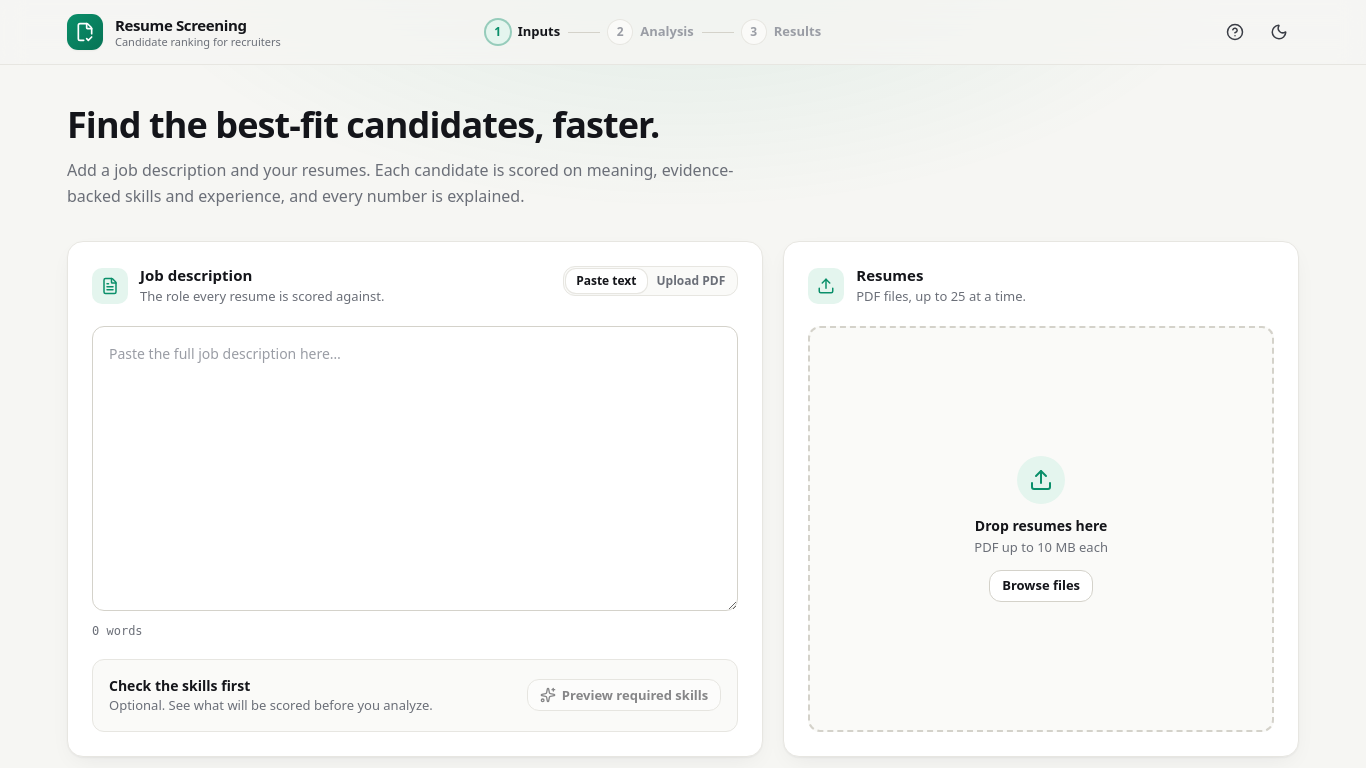
Test case: App › toggles the theme and opens the scoring help
The width and height of the screenshot is (1366, 768).
Click the button named "Switch to dark theme" at (1279, 32), box x1=1259 y1=12 x2=1299 y2=52
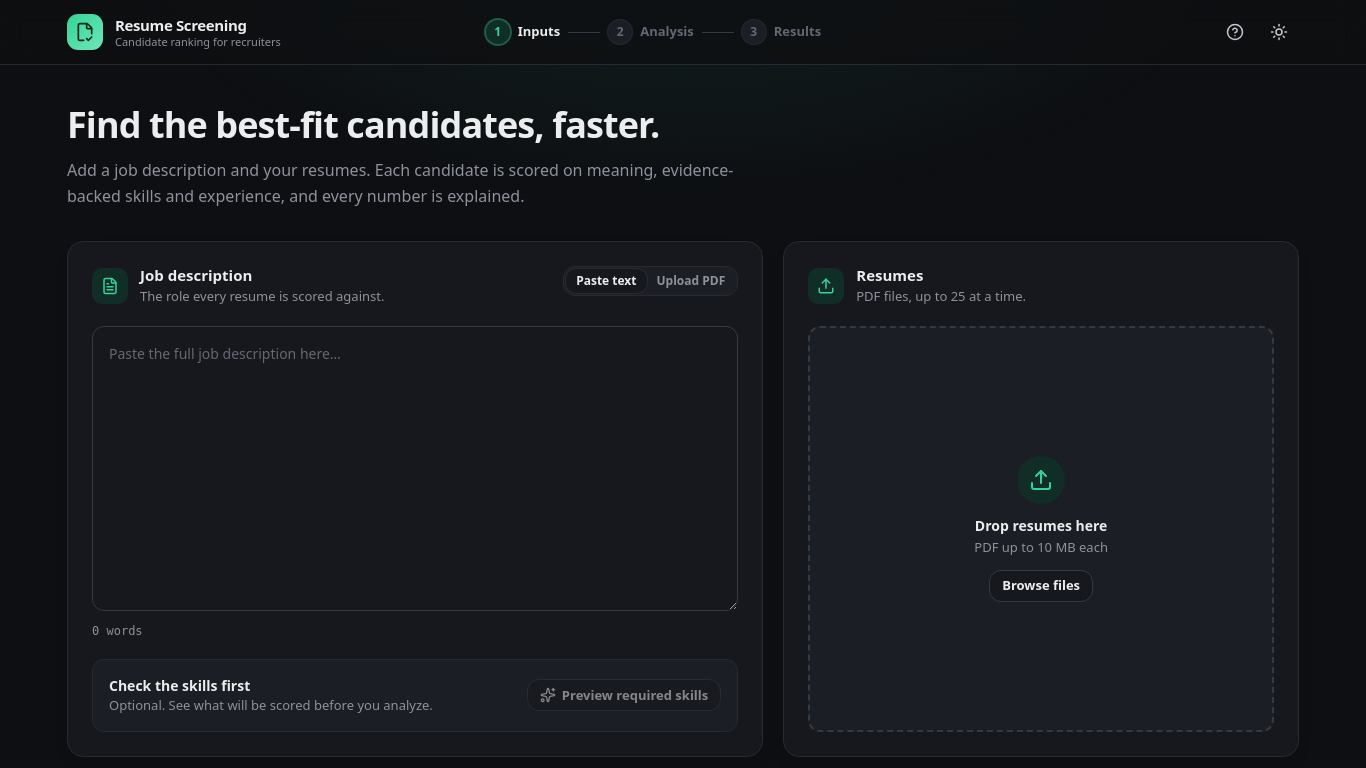
Click the button named "Switch to light theme" at (1279, 32), box x1=1259 y1=12 x2=1299 y2=52
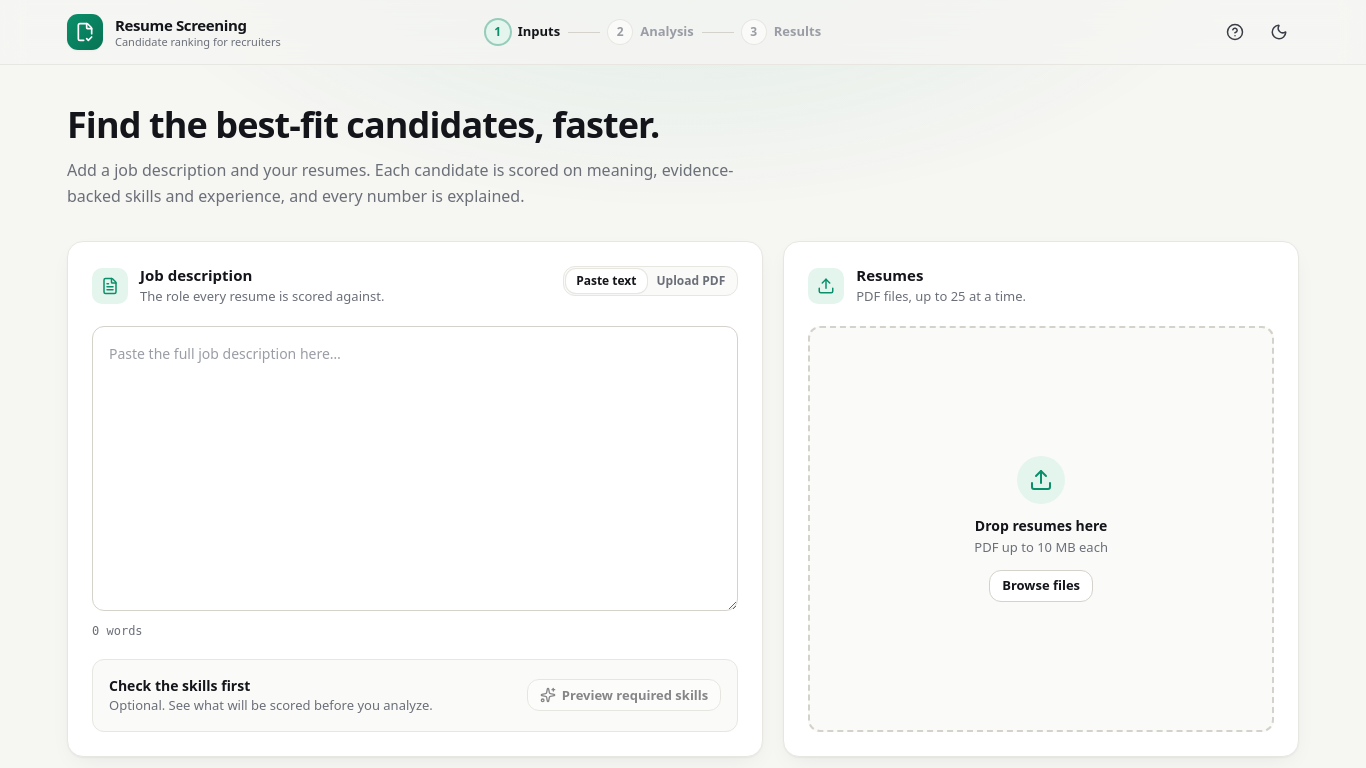
Click the button named "How scoring works" at (1235, 32), box x1=1215 y1=12 x2=1255 y2=52
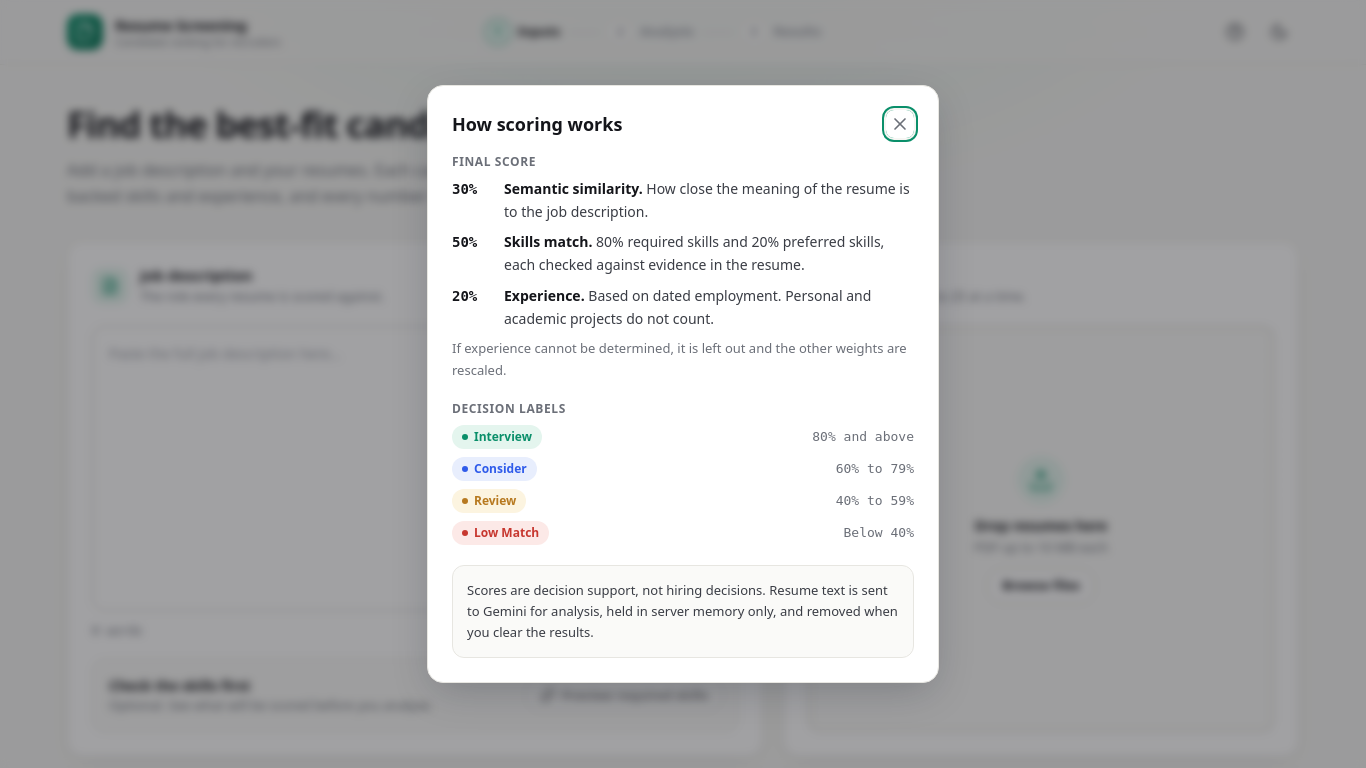
Check: the dialog "How scoring works" is shown, box x1=427 y1=85 x2=939 y2=683
Press Escape
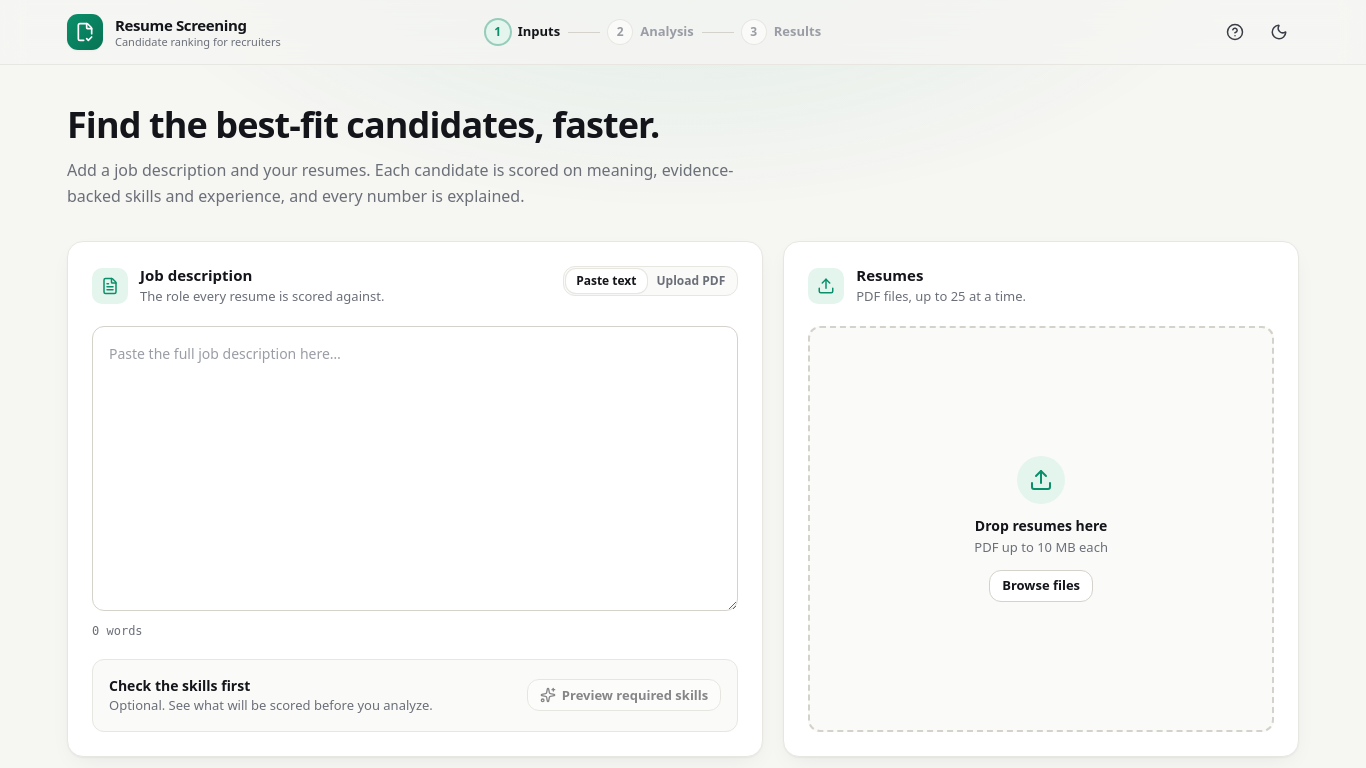
Check: the dialog is gone
